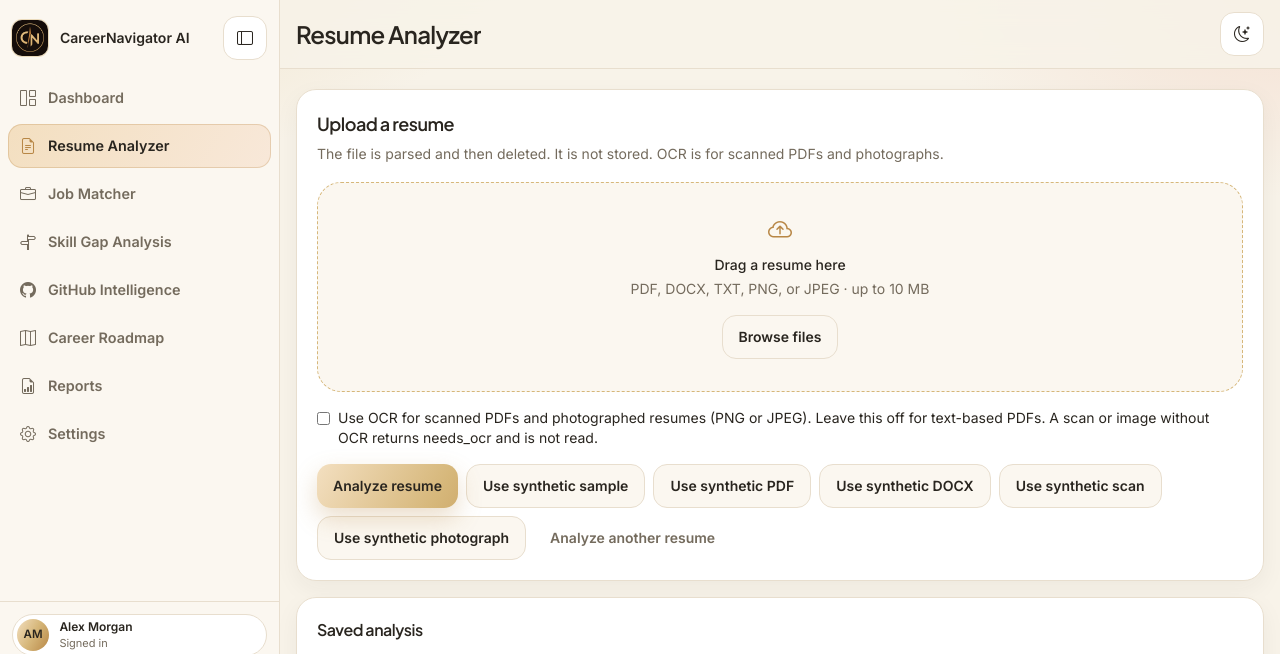
resume upload › asks for a file before analyzing
Click the button "Analyze resume": [388, 486] box [317, 464, 458, 508]
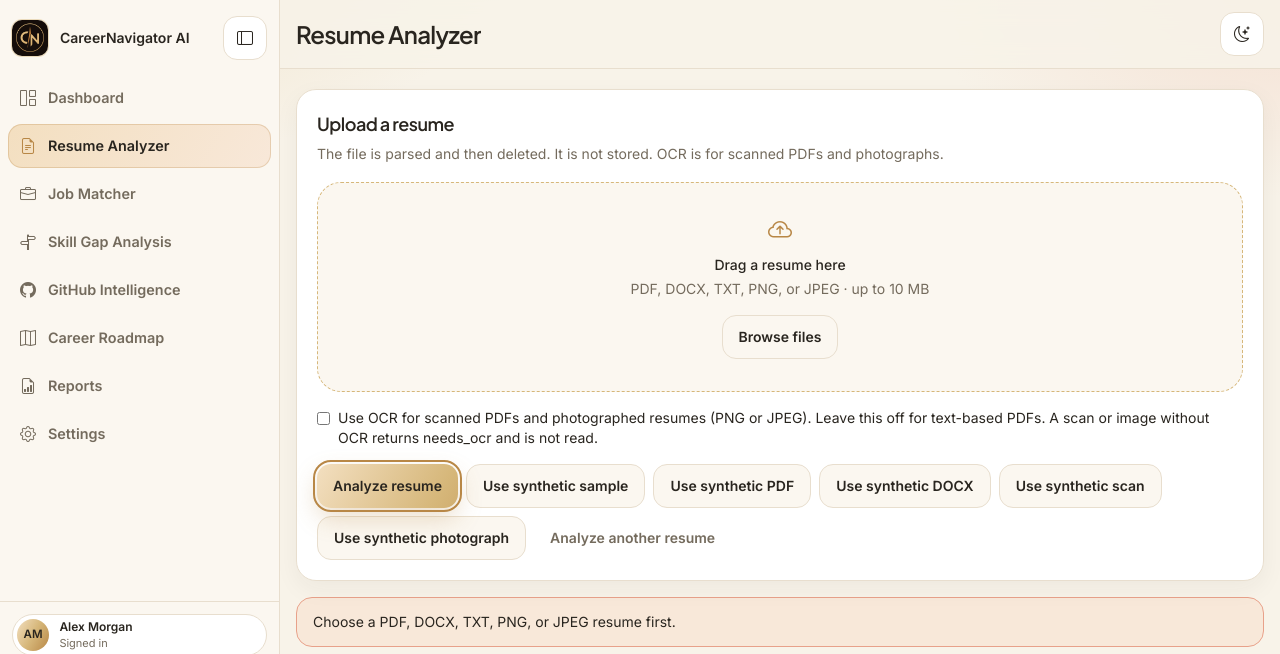
Result: the text "Choose a PDF, DOCX, TXT, PNG, or JPEG resume first." is shown at [296, 597, 1264, 647]
